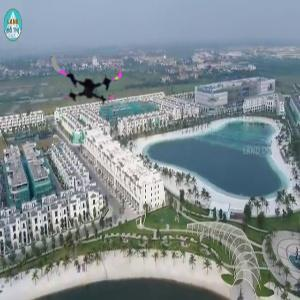drone: (54, 46, 127, 119)
